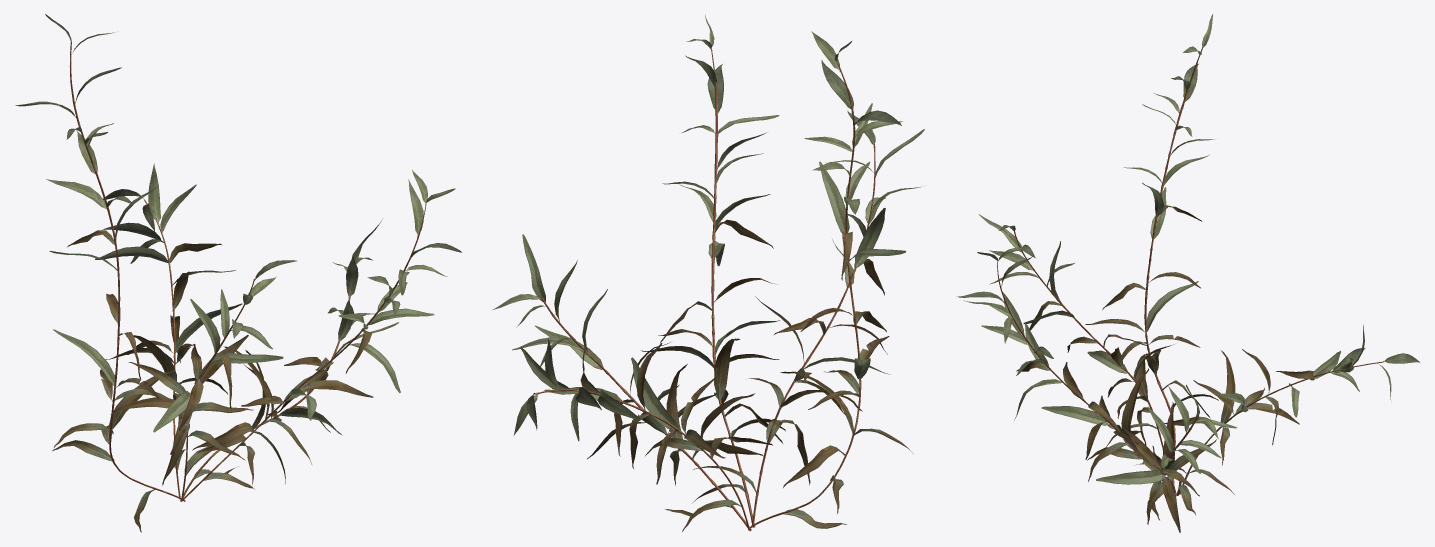
File: shrub_02.glb
3 renders of one model, left to right at view 1: azimuth 30°, elevation 25°; view 2: azimuth 150°, elevation 25°; view 3: azimuth 270°, elevation 25°, orthographic. The views are drawn at different scales.
Parts seen in each view (by area): view 1: shrub_02_a; view 2: shrub_02_a; view 3: shrub_02_a.
Part boxes in pixels (<box>): shrub_02_a: <box>15,14,461,532</box>; shrub_02_a: <box>492,15,924,531</box>; shrub_02_a: <box>956,14,1419,532</box>.
Size of the model in its own units: 1.31 by 1.69 by 1.64.
Materials: 1 (1 with a texture image).
